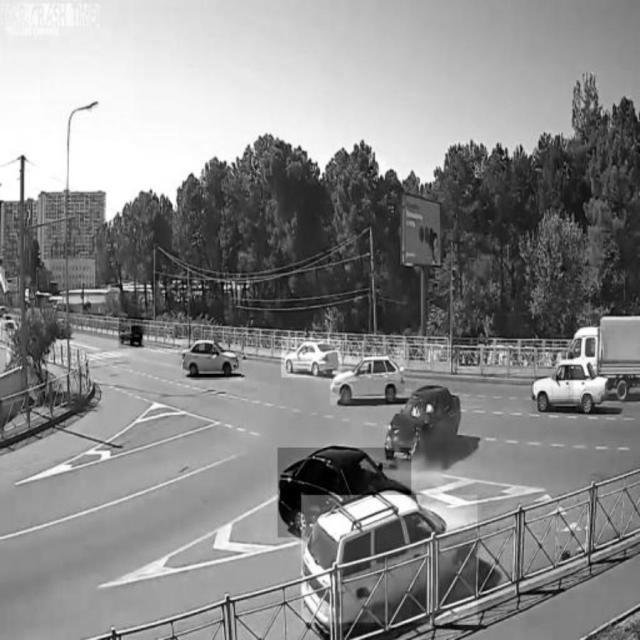vehicle: (302, 495, 478, 623), (277, 448, 411, 538), (387, 380, 461, 466), (574, 319, 640, 402), (532, 355, 605, 415), (330, 352, 404, 406), (282, 338, 342, 378), (183, 339, 241, 379), (119, 318, 144, 348)
